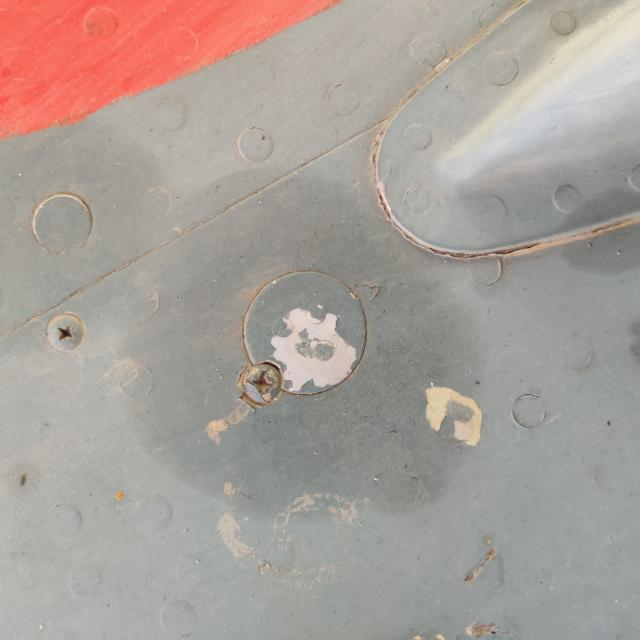paint-off: (288, 268, 422, 394), (358, 132, 469, 230)
